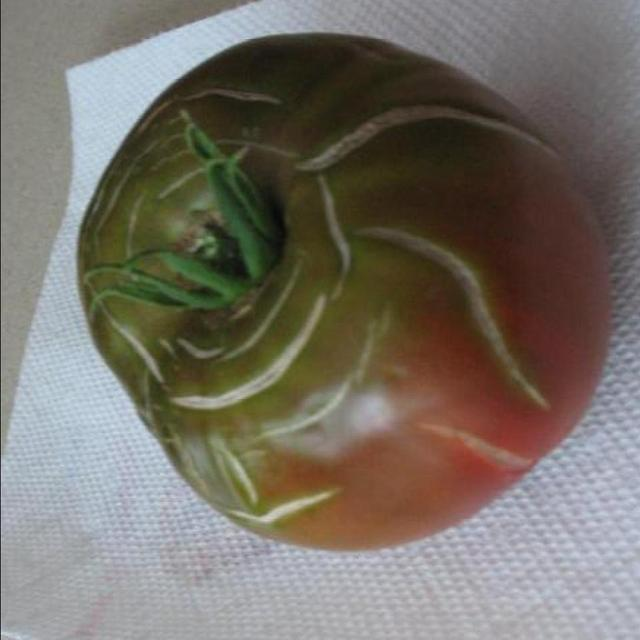Cracking Fruit: (40, 85, 218, 285)
